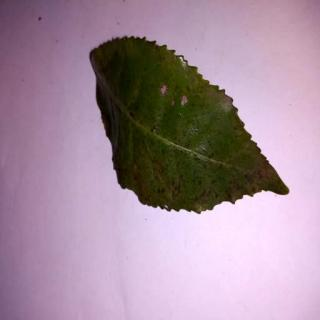Bird Eye Spot: (90, 37, 291, 217)
